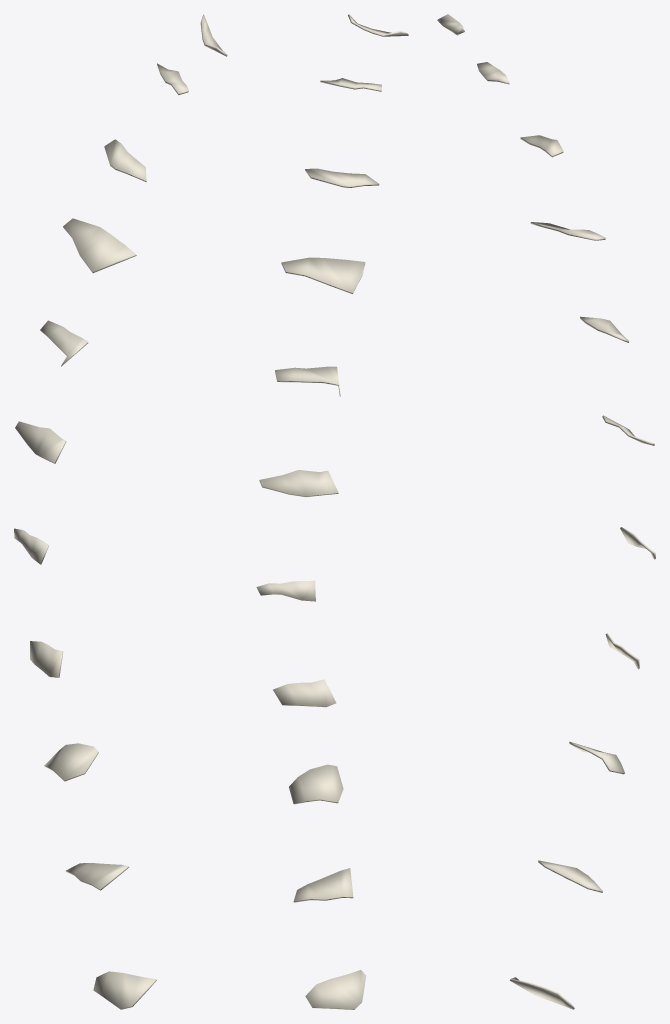
3 views of the same model, side by side, from view 1: azimuth 90°, elevation 25°; view 2: azimuth 150°, elevation 25°; view 3: azimuth 270°, elevation 25° (orthographic). The views are drawn at different scales.
Visible parts, largest first — view 1: ZA_68572d77fca4c048; view 2: ZA_68572d77fca4c048; view 3: ZA_68572d77fca4c048.
Part boxes in pixels (<box>): ZA_68572d77fca4c048: <box>14,14,227,1009</box>; ZA_68572d77fca4c048: <box>256,14,408,1009</box>; ZA_68572d77fca4c048: <box>437,14,655,1009</box>.
Bounding box in the file's own units: 0.0201 × 0.2671 × 0.0532.
